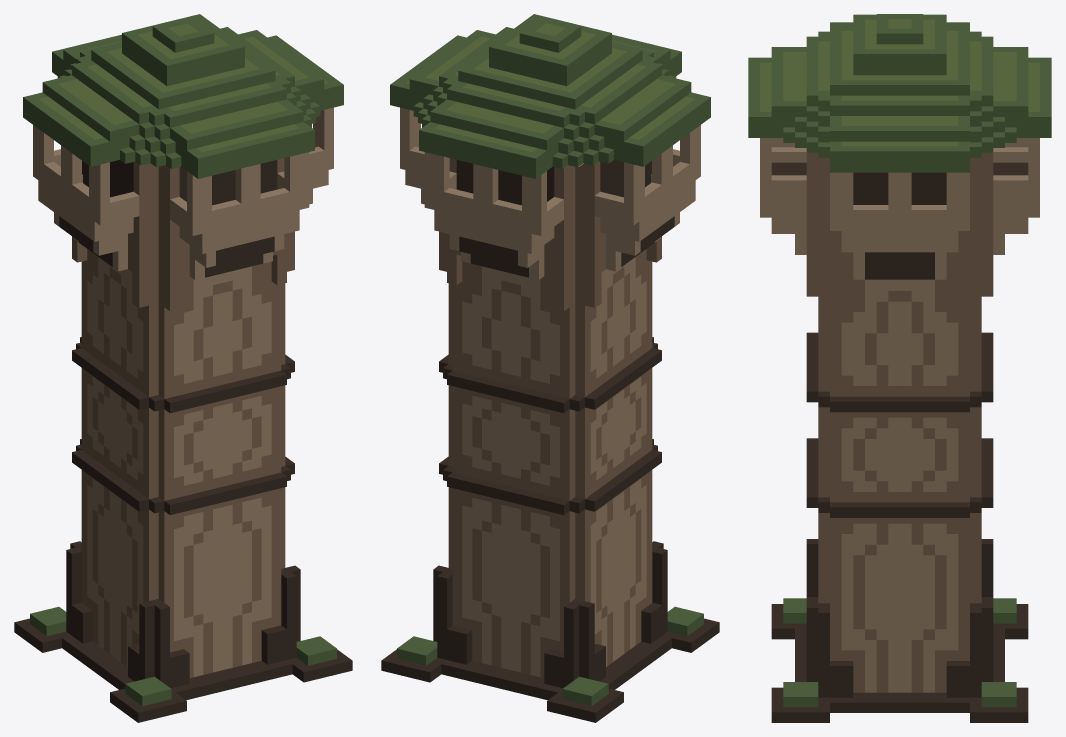
Rendered from torre_arqueros_madera.obj.
3 renders of one model, left to right at view 1: azimuth 30°, elevation 25°; view 2: azimuth 150°, elevation 25°; view 3: azimuth 270°, elevation 25°, orthographic. The views are drawn at different scales.
Size of the model in its own units: 26 by 61 by 26.
1 material, 1 textured.
